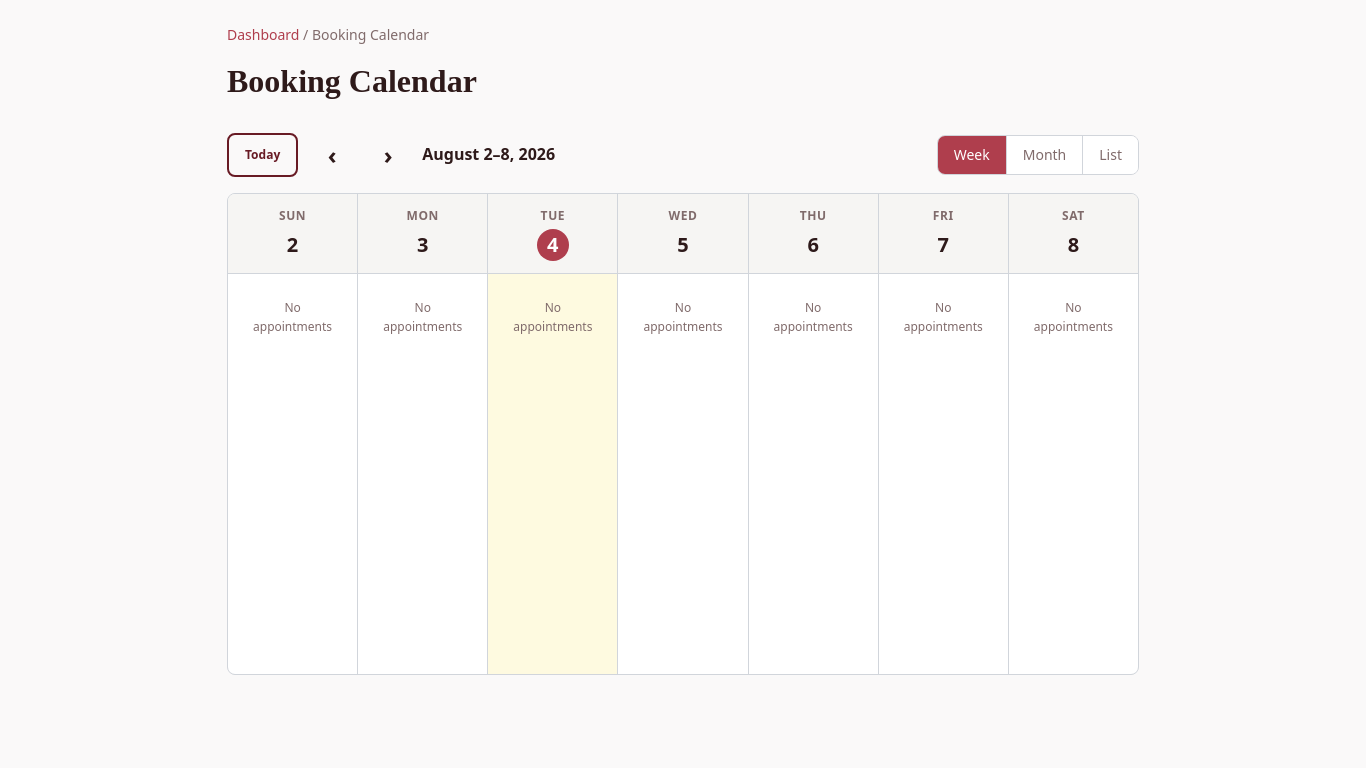
Test: AppointmentsCalendarPage — Table row in appointment detail › shows "—" in the Table row when no bed is assigned
The image size is (1366, 768).
Click the button "List".
click(1111, 155)  # box [1083,136,1138,174]
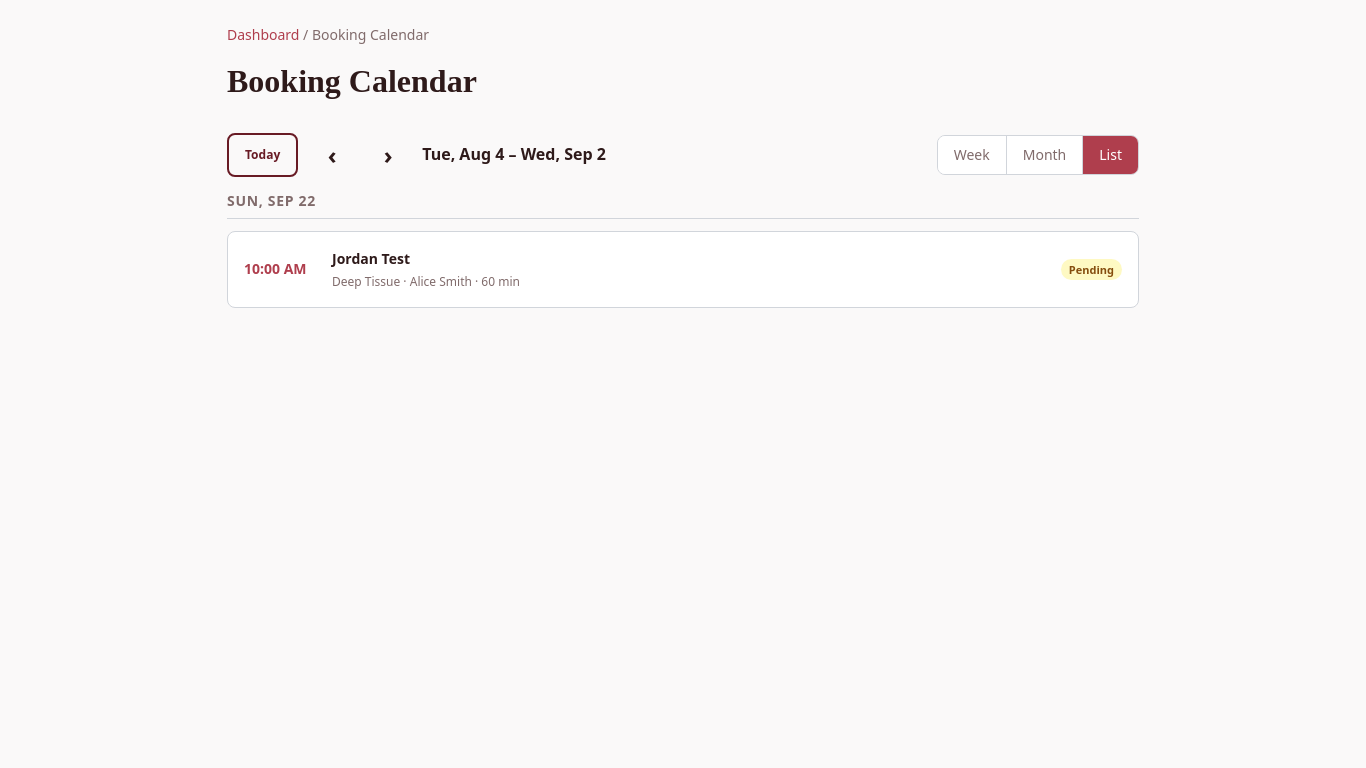
Expected: the text "Jordan Test" is shown, [332,249,410,268]
Click the button "Jordan Test".
click(275, 269)  # box [227,231,1139,308]
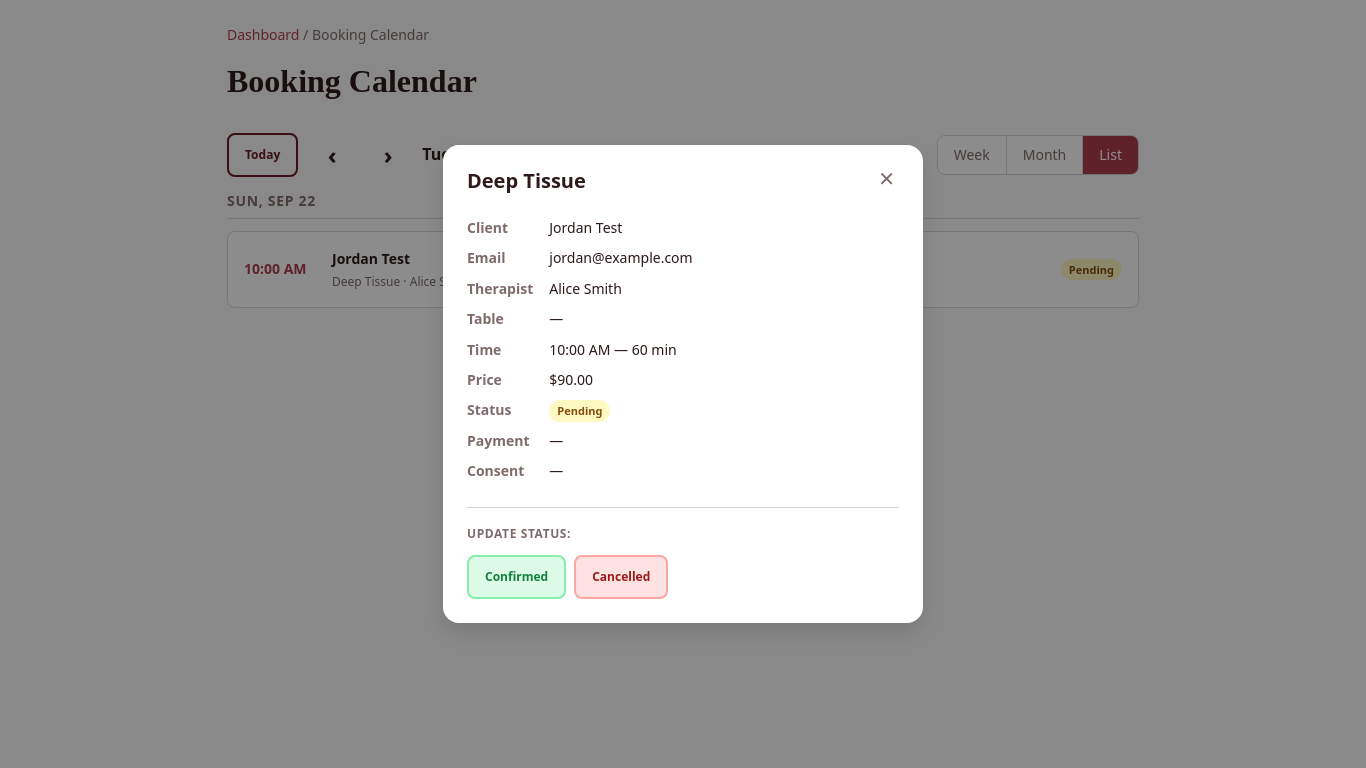
Expected: the heading "Deep Tissue" is shown, [467,169,586,193]
Expected: the text "Table" is shown, [467,309,504,328]
Expected: the 1st text "—" is shown, [549,309,563,328]
